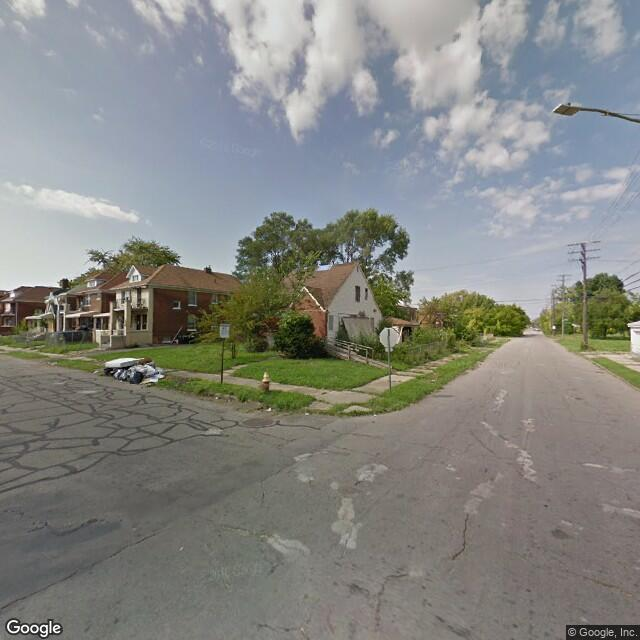litter: (105, 352, 163, 385), (264, 405, 274, 413), (371, 409, 376, 416), (92, 369, 99, 374), (215, 394, 219, 400), (304, 411, 310, 414)
